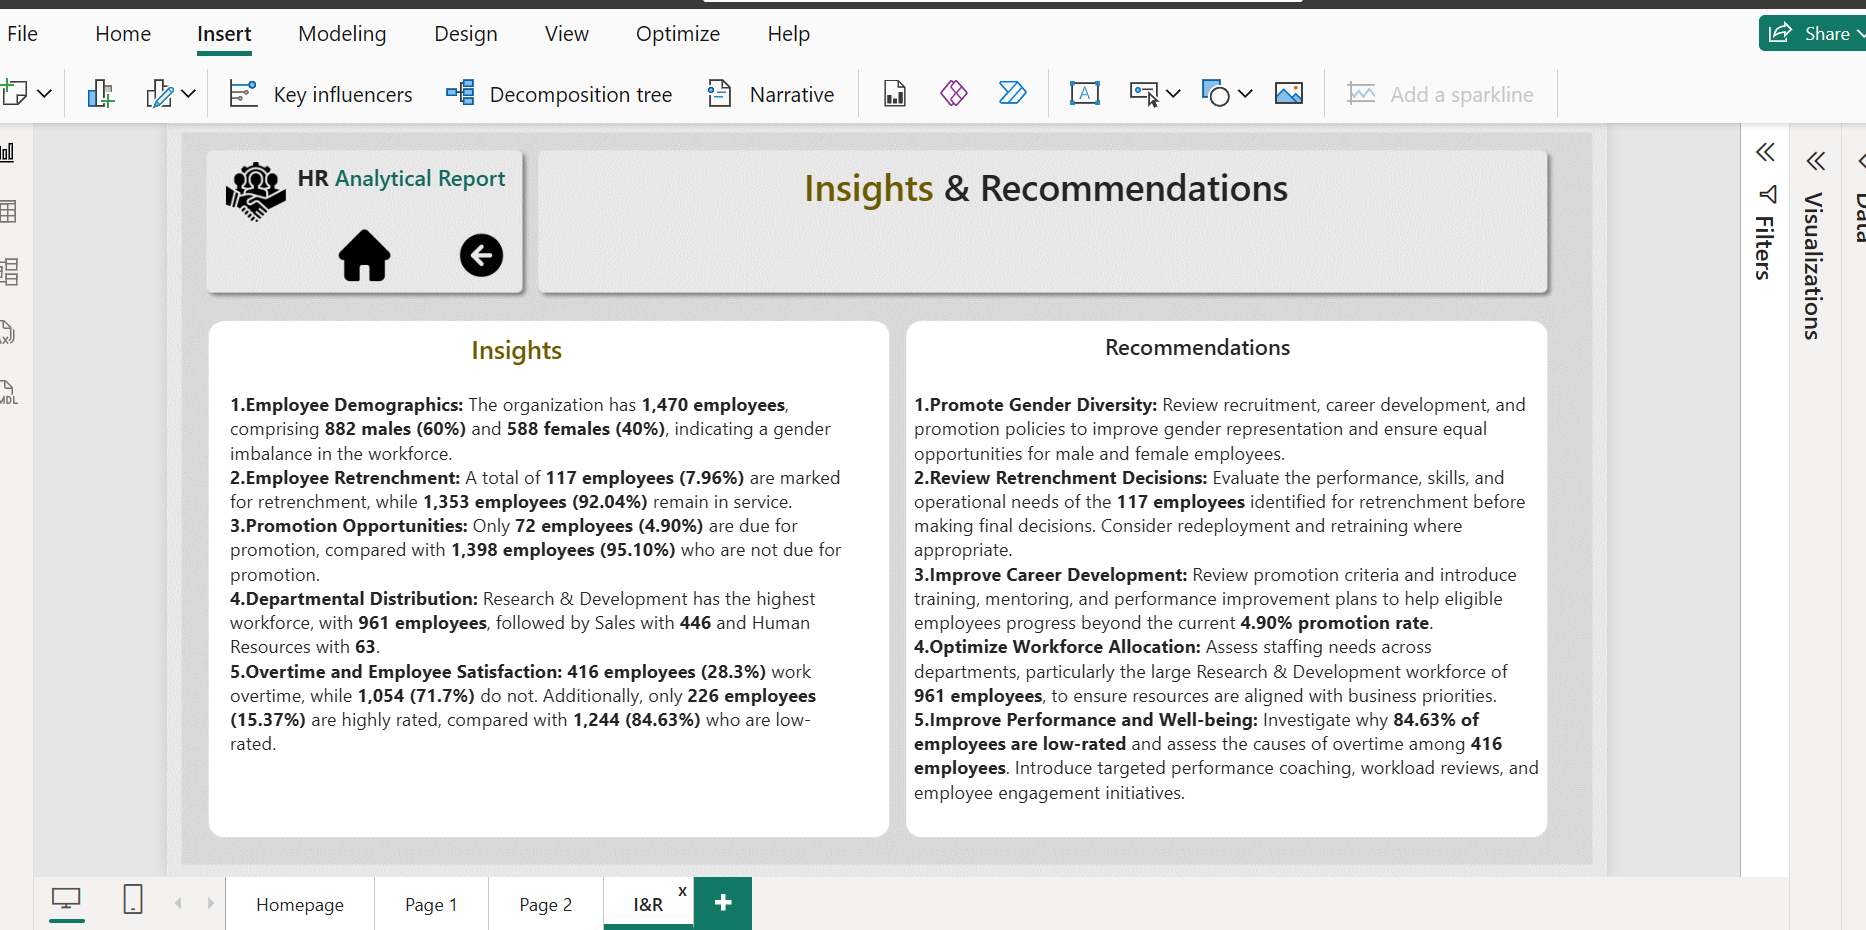

What the dashboard file says about the page in this screenshot:
{"tool":"powerbi","page":{"name":"I&R","canvas":[2100,1100],"ordinal":3},"visuals":[{"type":"textbox","box":[189.5,55.9,311.1,87.5],"z":0},{"type":"image","box":[70.5,55.9,119.1,87.5],"z":1},{"type":"image","box":[238.1,155.5,99.6,75.3],"z":3},{"type":"image","box":[408.3,155.5,99.6,75.3],"z":4},{"type":"textbox","box":[741.2,55.9,1066.8,158],"z":5},{"type":"textbox","box":[354.5,304.2,311.1,87.5],"z":6},{"type":"textbox","box":[1348,304.2,311.1,87.5],"z":7},{"type":"textbox","box":[1818,56,282,158],"z":8},{"type":"textbox","box":[54.5,487.5,150,150],"z":9},{"type":"textbox","box":[91.9,391.7,912.6,604],"z":10},{"type":"textbox","box":[1089.8,391.7,912.6,604],"z":11}]}

Visuals, with their boxes on the page's 2100x1100 design canvas (x1, y1, x2, y2). These are canvas units, not pixel positions in the 1866x930 screenshot, which may show the page scaled, cropped or inside an application window:
textbox: Rect(190, 56, 501, 143)
image: Rect(70, 56, 190, 143)
image: Rect(238, 156, 338, 231)
image: Rect(408, 156, 508, 231)
textbox: Rect(741, 56, 1808, 214)
textbox: Rect(354, 304, 666, 392)
textbox: Rect(1348, 304, 1659, 392)
textbox: Rect(1818, 56, 2100, 214)
textbox: Rect(54, 488, 204, 638)
textbox: Rect(92, 392, 1004, 996)
textbox: Rect(1090, 392, 2002, 996)
